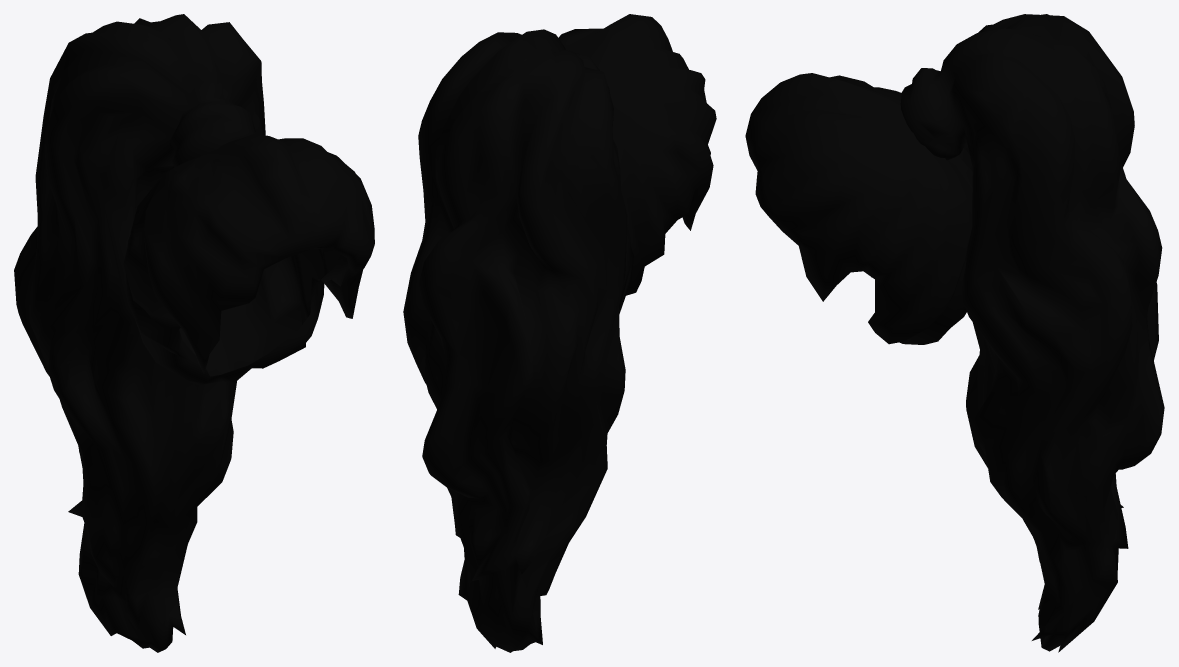
The model's file is femalehair2.glb.
3 views of the same model, side by side, from view 1: azimuth 30°, elevation 25°; view 2: azimuth 150°, elevation 25°; view 3: azimuth 270°, elevation 25° (orthographic). The views are drawn at different scales.
Visible parts, largest first — view 1: Wolf3D_Hair; view 2: Wolf3D_Hair; view 3: Wolf3D_Hair.
Part boxes in pixels (left/top/right/bottom): Wolf3D_Hair: left=14, top=14, right=374, bottom=652; Wolf3D_Hair: left=403, top=14, right=716, bottom=652; Wolf3D_Hair: left=745, top=14, right=1164, bottom=652.
Bounding box in the file's own units: 0.1924 × 0.5525 × 0.3354.
Materials: 1 (1 with a texture image).
